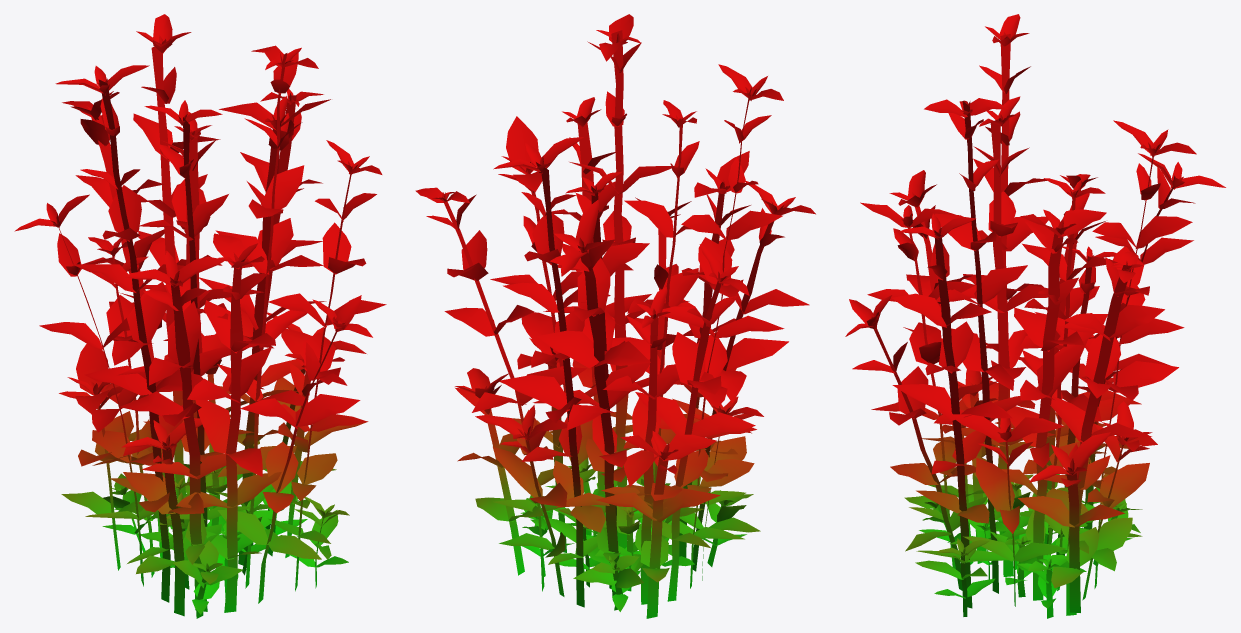
The model's file is Var1_LOD4.fbx.
3 renders of one model, left to right at view 1: azimuth 30°, elevation 25°; view 2: azimuth 150°, elevation 25°; view 3: azimuth 270°, elevation 25°, orthographic. The views are drawn at different scales.
Parts seen in each view (by area): view 1: _ne8l_Var1_LOD4; view 2: _ne8l_Var1_LOD4; view 3: _ne8l_Var1_LOD4.
Boxes of the visible parts, <box> form: _ne8l_Var1_LOD4: <box>14,14,386,618</box>; _ne8l_Var1_LOD4: <box>415,14,815,618</box>; _ne8l_Var1_LOD4: <box>845,14,1225,618</box>.
Bounding box in the file's own units: 37.63 × 60.13 × 40.86.
